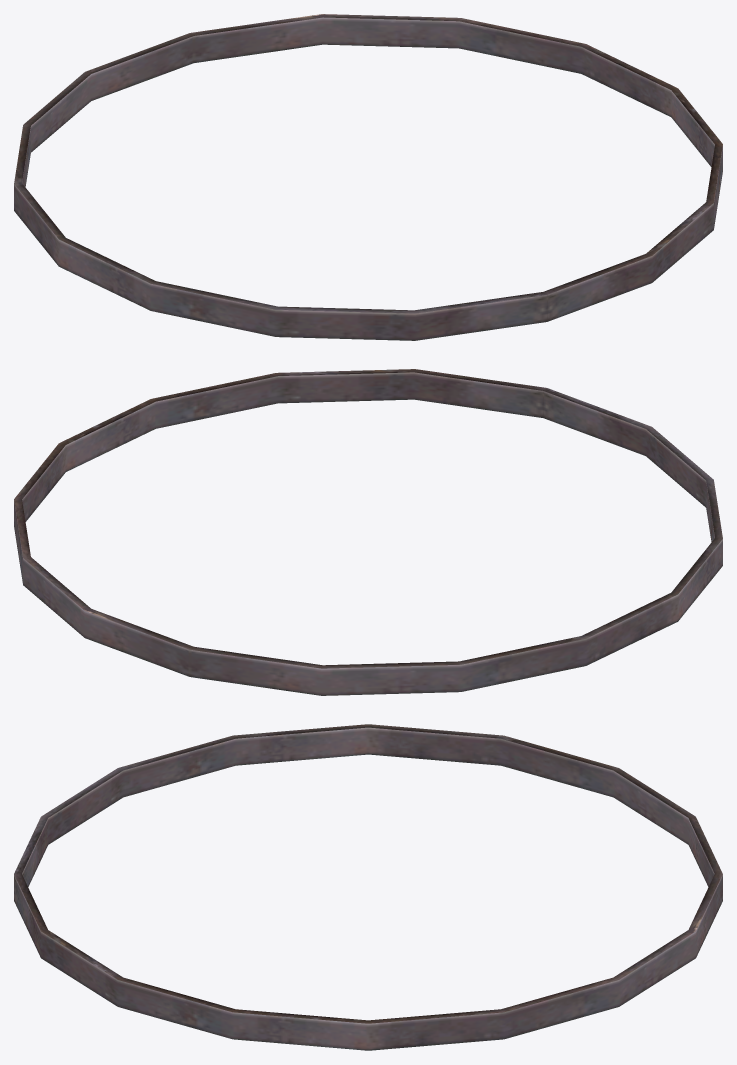
The model's file is flower_barrel_p9.glb.
The picture shows the model from 3 angles, top to bottom: view 1: azimuth 30°, elevation 25°; view 2: azimuth 150°, elevation 25°; view 3: azimuth 270°, elevation 25°; orthographic projection.
Visible parts, largest first — view 1: flower_barrel_p9; view 2: flower_barrel_p9; view 3: flower_barrel_p9.
Part boxes in pixels (bbox=[...]): flower_barrel_p9: bbox=[14, 14, 722, 340]; flower_barrel_p9: bbox=[14, 369, 722, 695]; flower_barrel_p9: bbox=[14, 724, 722, 1050].
Size of the model in its own units: 0.7488 by 0.0315 by 0.7489.
Materials: 1 (1 with a texture image).
